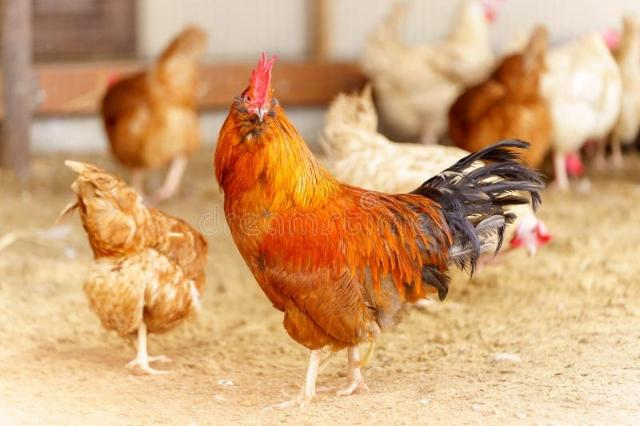Chicken: (213, 51, 548, 409), (319, 79, 552, 259), (53, 160, 211, 378)
